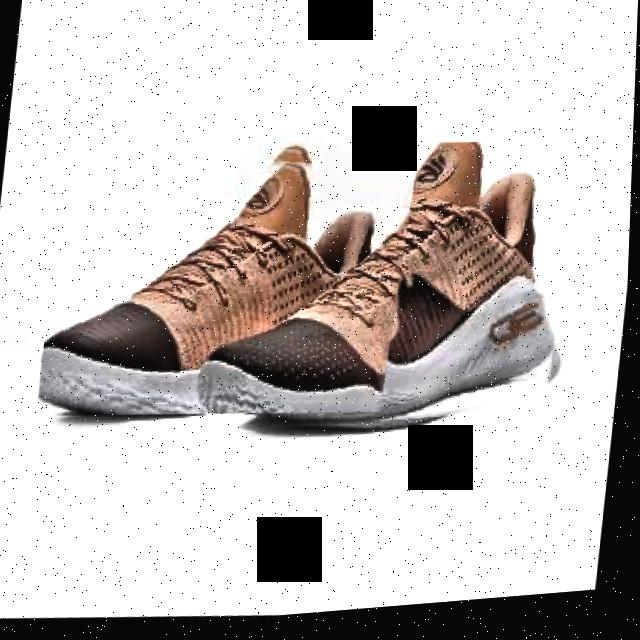shoe: (208, 126, 586, 462), (38, 129, 420, 441)
